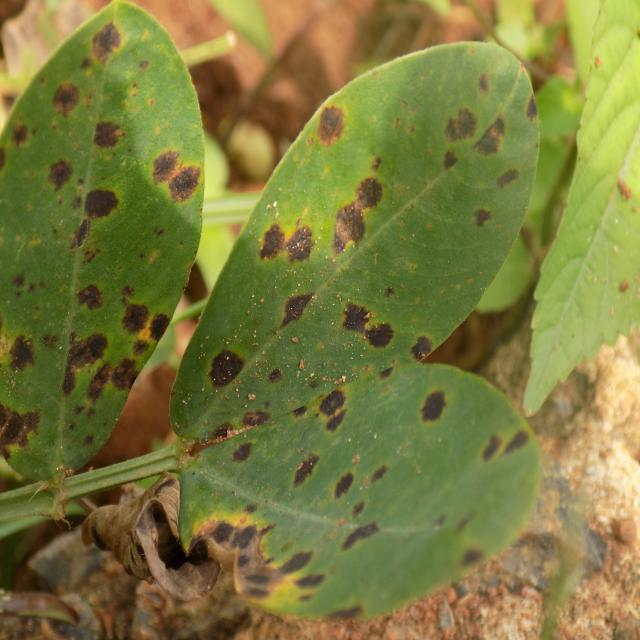Ground nut_tikka leaf spot: (169, 42, 532, 460), (180, 361, 537, 620)
